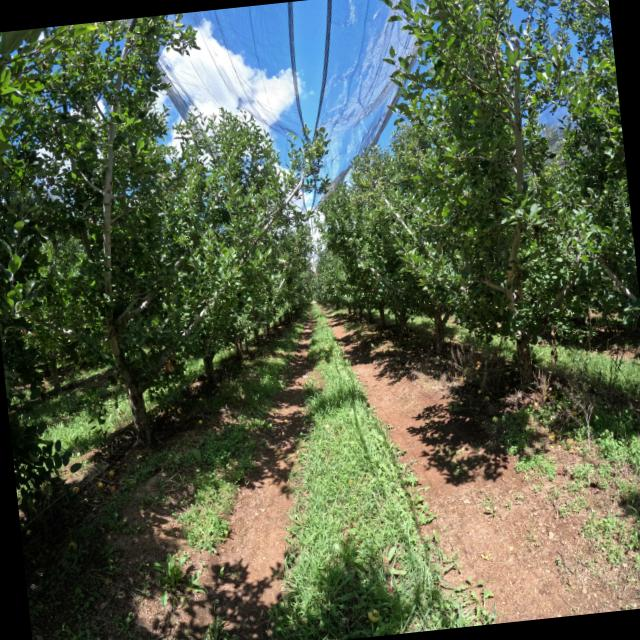-FireBlight-: (167, 362, 174, 373)
